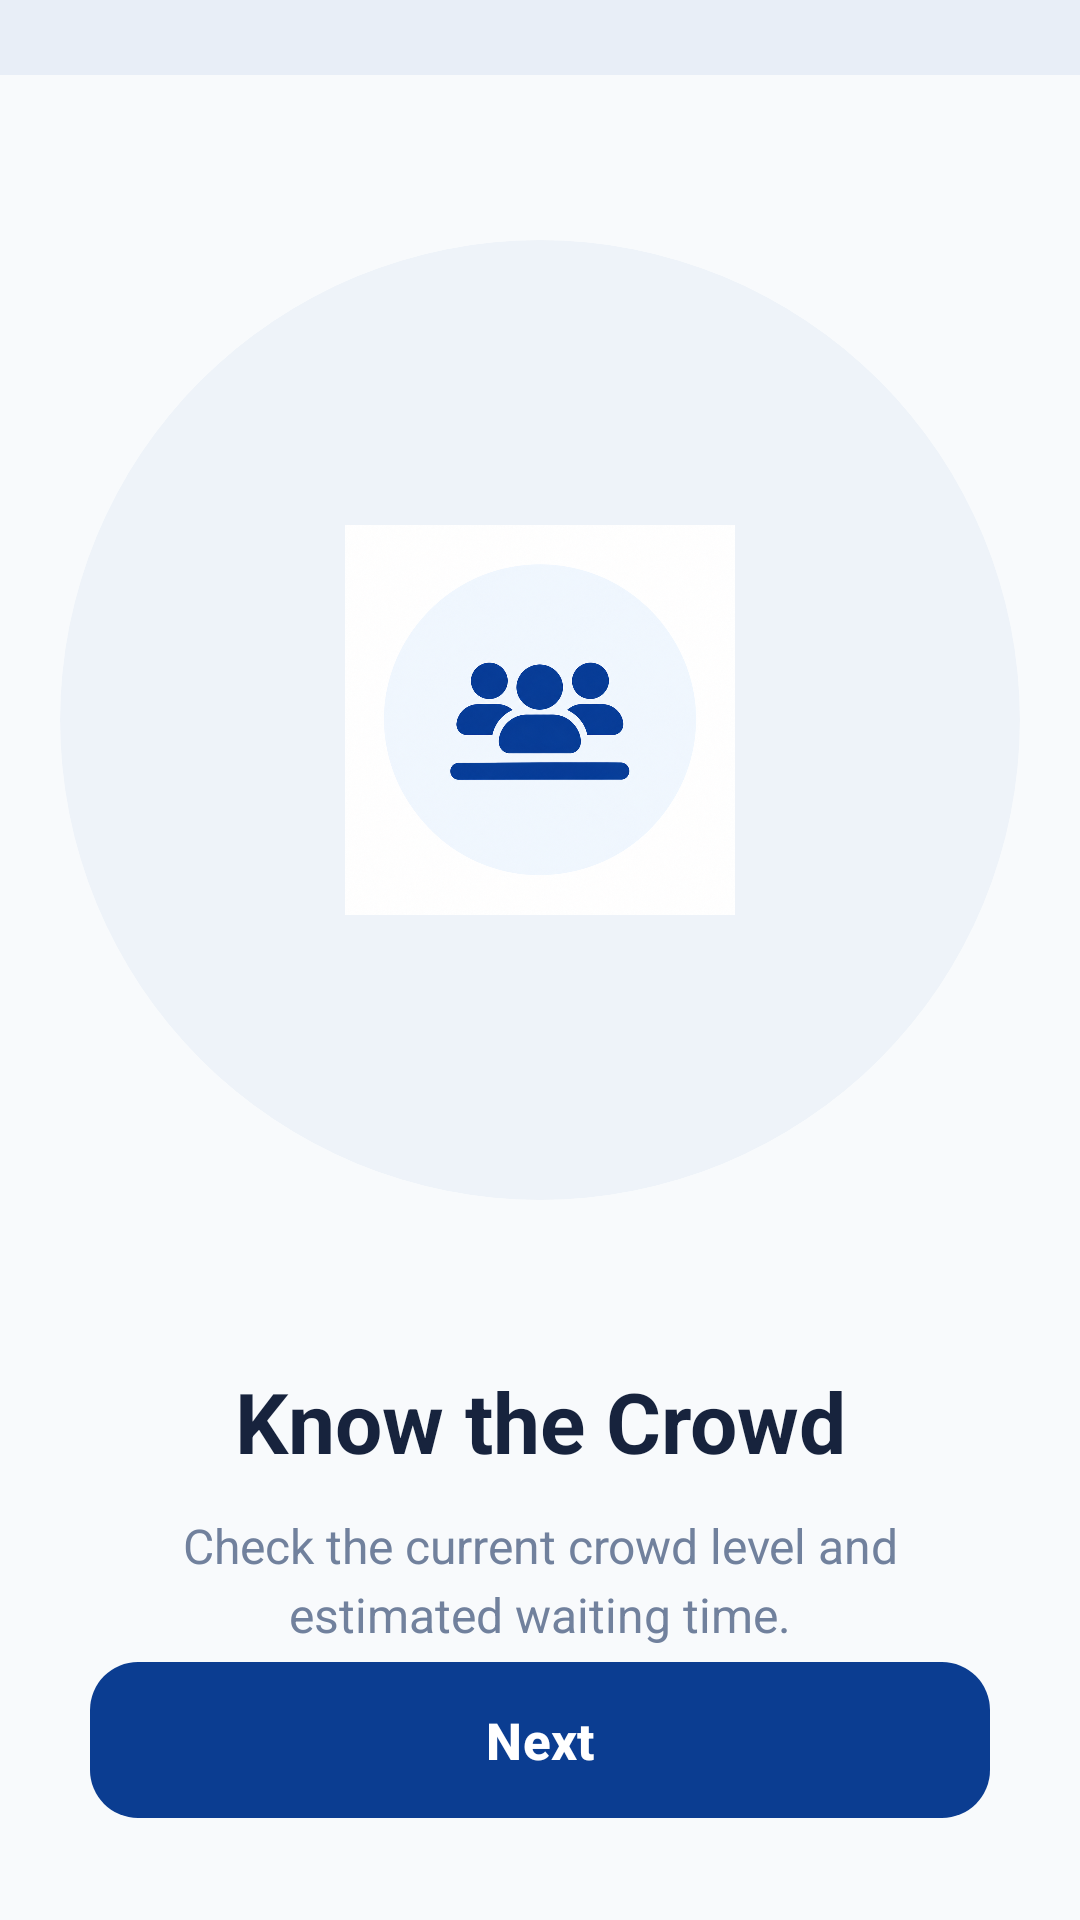

Named icons in this screenshot (1080px x 1920px) and their bounding boxes, (x1, y1, x2, y2):
Government office crowd illustration: (450, 662, 630, 780)
